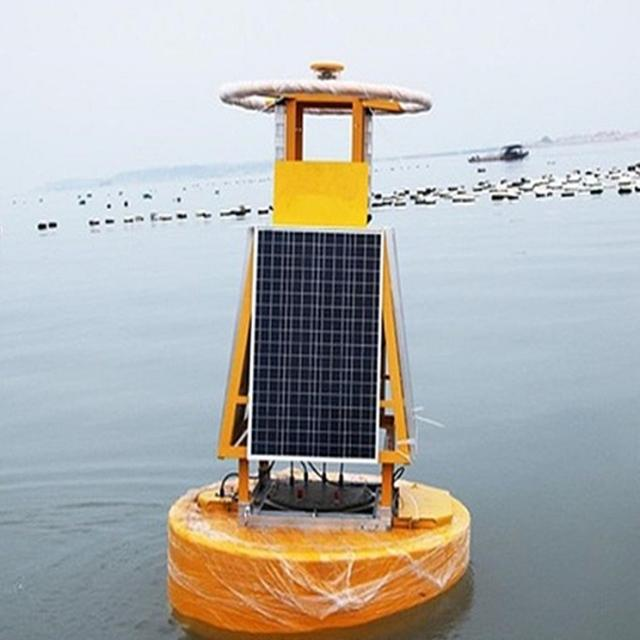buoy: (159, 54, 480, 634)
